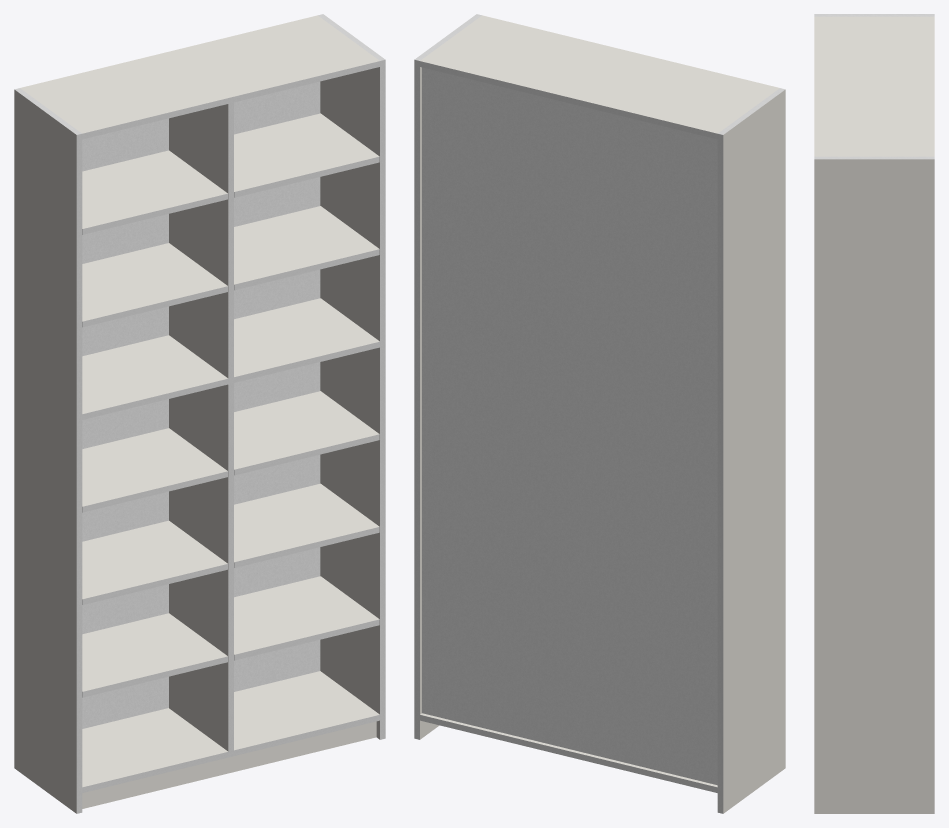
File: LIT-BKC-tall.glb
3 views of the same model, side by side, from view 1: azimuth 30°, elevation 25°; view 2: azimuth 150°, elevation 25°; view 3: azimuth 270°, elevation 25° (orthographic). The views are drawn at different scales.
Parts seen in each view (by area): view 1: side-l:pbr, back:sheet:eyJtIjoibWRmIiwic2lkZSI6ImZhY2UiLCJzZWVkIjowLCJ0a, partition:pbr, side-r:pbr, top:pbr, bottom:pbr, shelf-fixedl:pbr, shelf-fixedr:pbr, shelf-1:pbr, shelf-7:pbr, shelf-9:pbr, shelf-3:pbr (+24 smaller); view 2: back:sheet:eyJtIjoibWRmIiwic2lkZSI6ImZhY2UiLCJzZWVkIjowLCJ0a, side-l:pbr, top:pbr, side-l:sheet:eyJtIjoibWRmIiwic2lkZSI6ImVkZ2UtbG9uZyIsInNlZWQ, side-r:sheet:eyJtIjoibWRmIiwic2lkZSI6ImVkZ2UtbG9uZyIsInNlZWQ, top:sheet:eyJtIjoibWRmIiwic2lkZSI6ImVkZ2UtbG9uZyIsInNlZWQiOj, bottom:sheet:eyJtIjoibWRmIiwic2lkZSI6ImVkZ2UtbG9uZyIsInNlZWQ, side-r:pbr, bottom:pbr; view 3: side-r:pbr, top:pbr, side-r:sheet:eyJtIjoibWRmIiwic2lkZSI6ImVkZ2UtZW5kIiwic2VlZCI, side-l:sheet:eyJtIjoibWRmIiwic2lkZSI6ImVkZ2UtZW5kIiwic2VlZCI.
Part boxes in pixels (left/top/right/bottom): side-l:pbr: left=14, top=89, right=76, bottom=813; back:sheet:eyJtIjoibWRmIiwic2lkZSI6ImZhY2UiLCJzZWVkIjowLCJ0a: left=82, top=81, right=320, bottom=728; partition:pbr: left=169, top=104, right=228, bottom=751; side-r:pbr: left=320, top=67, right=379, bottom=739; top:pbr: left=20, top=15, right=379, bottom=133; bottom:pbr: left=82, top=671, right=379, bottom=787; shelf-fixedl:pbr: left=82, top=335, right=227, bottom=413; shelf-fixedr:pbr: left=234, top=298, right=379, bottom=376; shelf-1:pbr: left=82, top=613, right=227, bottom=691; shelf-7:pbr: left=82, top=243, right=227, bottom=321; shelf-9:pbr: left=82, top=150, right=227, bottom=228; shelf-3:pbr: left=82, top=520, right=227, bottom=599; back:sheet:eyJtIjoibWRmIiwic2lkZSI6ImZhY2UiLCJzZWVkIjowLCJ0a: left=422, top=67, right=717, bottom=785; side-l:pbr: left=723, top=89, right=785, bottom=813; top:pbr: left=420, top=15, right=779, bottom=133; side-l:sheet:eyJtIjoibWRmIiwic2lkZSI6ImVkZ2UtbG9uZyIsInNlZWQ: left=717, top=134, right=723, bottom=813; side-r:sheet:eyJtIjoibWRmIiwic2lkZSI6ImVkZ2UtbG9uZyIsInNlZWQ: left=414, top=59, right=419, bottom=739; top:sheet:eyJtIjoibWRmIiwic2lkZSI6ImVkZ2UtbG9uZyIsInNlZWQiOj: left=420, top=61, right=717, bottom=139; bottom:sheet:eyJtIjoibWRmIiwic2lkZSI6ImVkZ2UtbG9uZyIsInNlZWQ: left=420, top=715, right=717, bottom=792; side-r:pbr: left=420, top=67, right=439, bottom=739; bottom:pbr: left=420, top=713, right=717, bottom=787; side-r:pbr: left=814, top=159, right=934, bottom=813; top:pbr: left=814, top=16, right=934, bottom=156; side-r:sheet:eyJtIjoibWRmIiwic2lkZSI6ImVkZ2UtZW5kIiwic2VlZCI: left=814, top=156, right=934, bottom=159; side-l:sheet:eyJtIjoibWRmIiwic2lkZSI6ImVkZ2UtZW5kIiwic2VlZCI: left=814, top=14, right=934, bottom=16.
Bounding box in the file's own units: 1 × 2.1 × 0.35.
Materials: 57 (39 with a texture image).
